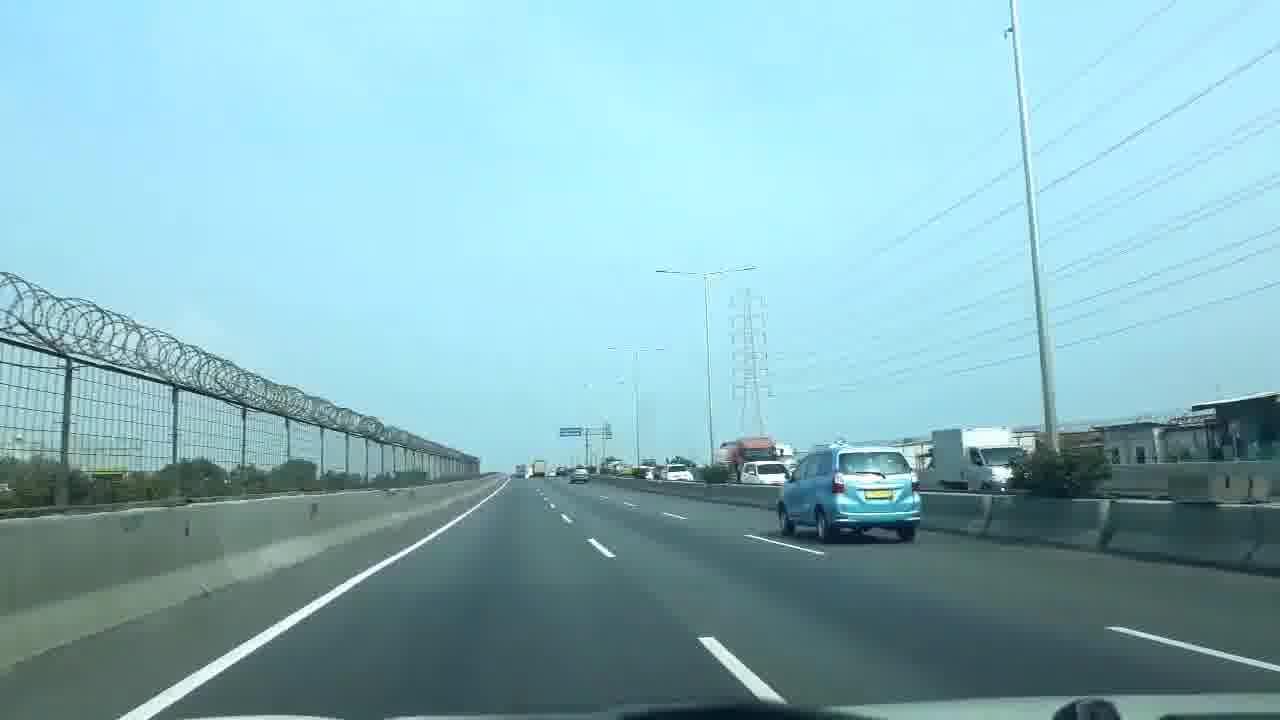plate_positive: (864, 490, 894, 499)
